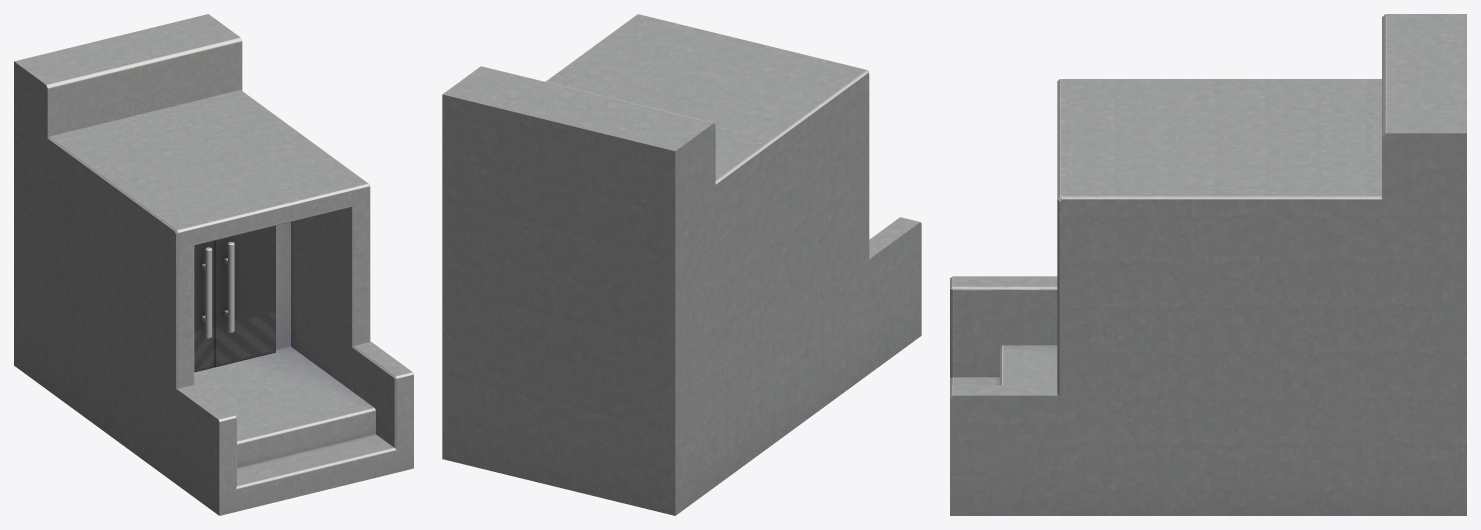
The model's file is tribune_exit_players.fbx.
The picture shows the model from 3 angles, left to right: view 1: azimuth 30°, elevation 25°; view 2: azimuth 150°, elevation 25°; view 3: azimuth 270°, elevation 25°; orthographic projection. The views are drawn at different scales.
Visible parts, largest first — view 1: tribune_exit_players, tribune_exit_players_door_R, tribune_exit_players_door_L; view 2: tribune_exit_players; view 3: tribune_exit_players.
Boxes of the visible parts, x1,y1,x2,y2 form: tribune_exit_players: [14, 14, 413, 515]; tribune_exit_players_door_R: [214, 225, 275, 367]; tribune_exit_players_door_L: [194, 241, 214, 372]; tribune_exit_players: [442, 14, 921, 515]; tribune_exit_players: [950, 14, 1466, 515].
Size of the model in its own units: 200 by 299 by 366.
